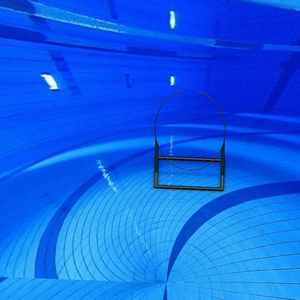circle: (153, 88, 227, 194)
